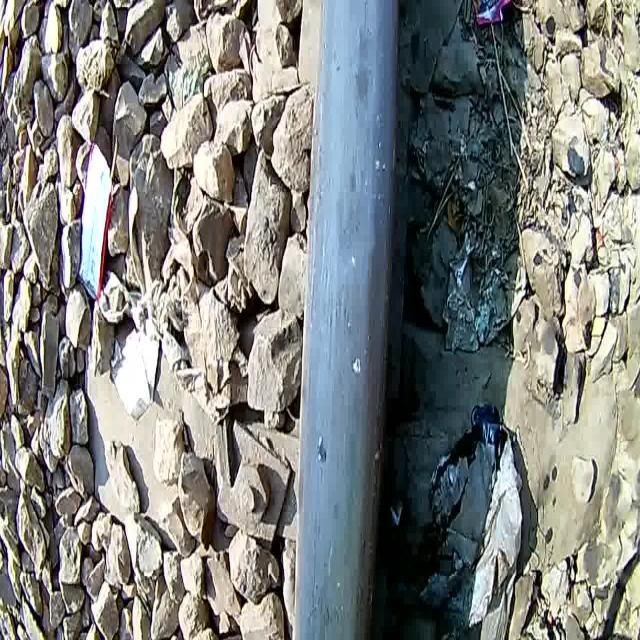Squats: (277, 0, 420, 640)
